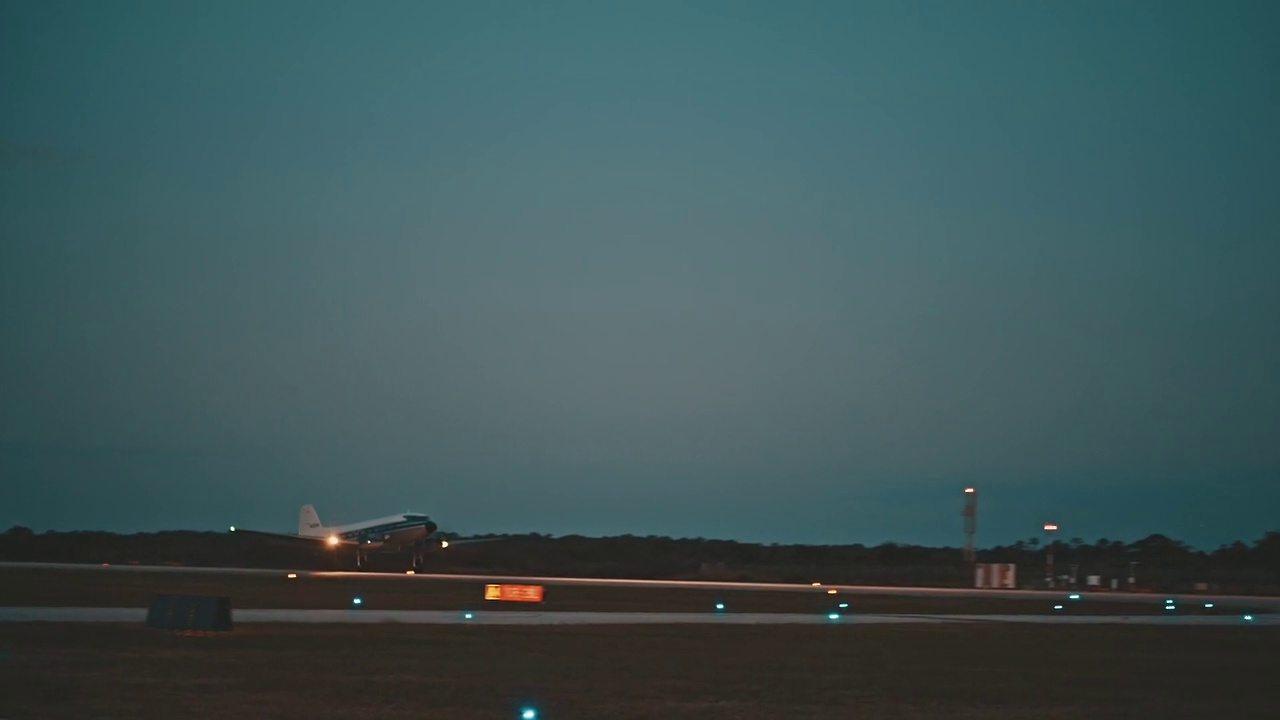plane: (228, 501, 505, 574)
